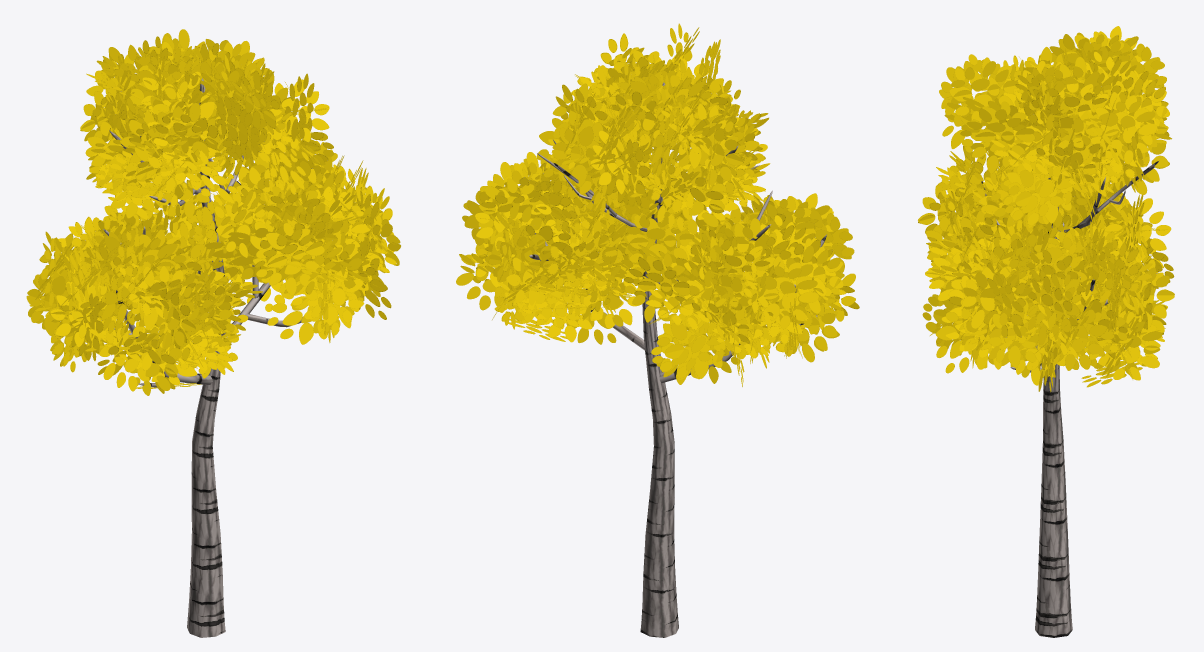
The model's file is BirchTree_4.glb.
3 renders of one model, left to right at view 1: azimuth 30°, elevation 25°; view 2: azimuth 150°, elevation 25°; view 3: azimuth 270°, elevation 25°, orthographic.
Size of the model in its own units: 2.78 by 4.21 by 1.84.
2 materials, 2 textured.
